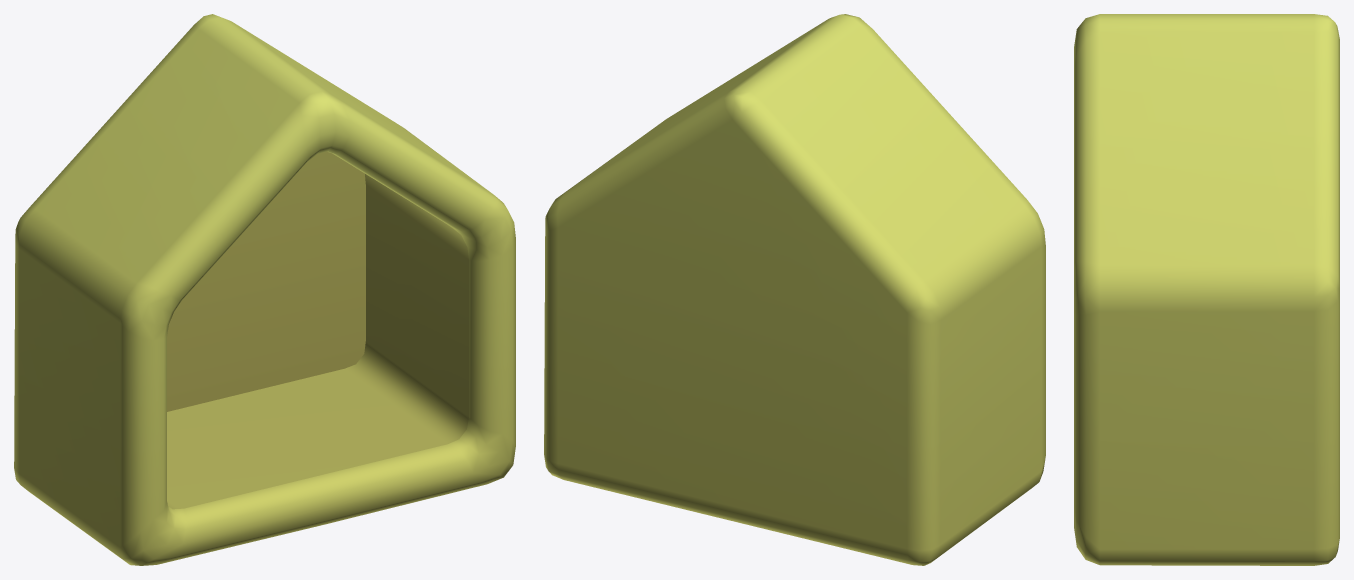
The model's file is Shelf_03.glb.
3 renders of one model, left to right at view 1: azimuth 30°, elevation 25°; view 2: azimuth 150°, elevation 25°; view 3: azimuth 270°, elevation 25°, orthographic. The views are drawn at different scales.
Visible parts, largest first — view 1: Shelf_03; view 2: Shelf_03; view 3: Shelf_03.
Boxes of the visible parts, x1=… form: Shelf_03: x1=14, y1=14, x2=515, y2=565; Shelf_03: x1=544, y1=14, x2=1045, y2=565; Shelf_03: x1=1074, y1=14, x2=1339, y2=565.
Bounding box in the file's own units: 0.45 × 0.4716 × 0.25.
1 material, 1 textured.
